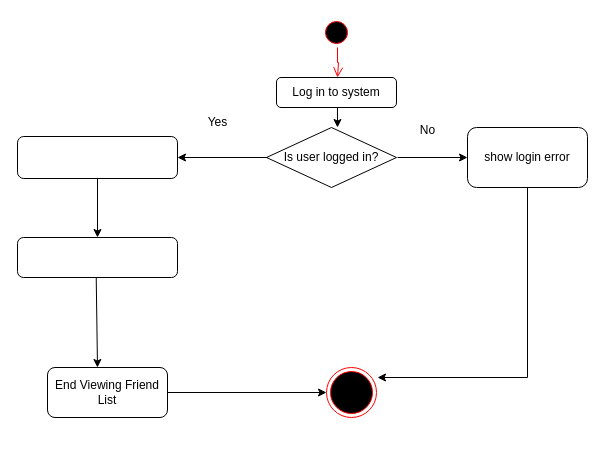
The diagram is 605 pixels wide and 475 high, and some of its shapes have lost their labels. Each missing label, with the box of its shape:
Display Friend List: (16, 236, 178, 278)
Retrieve Friend List from Database: (16, 136, 178, 178)
